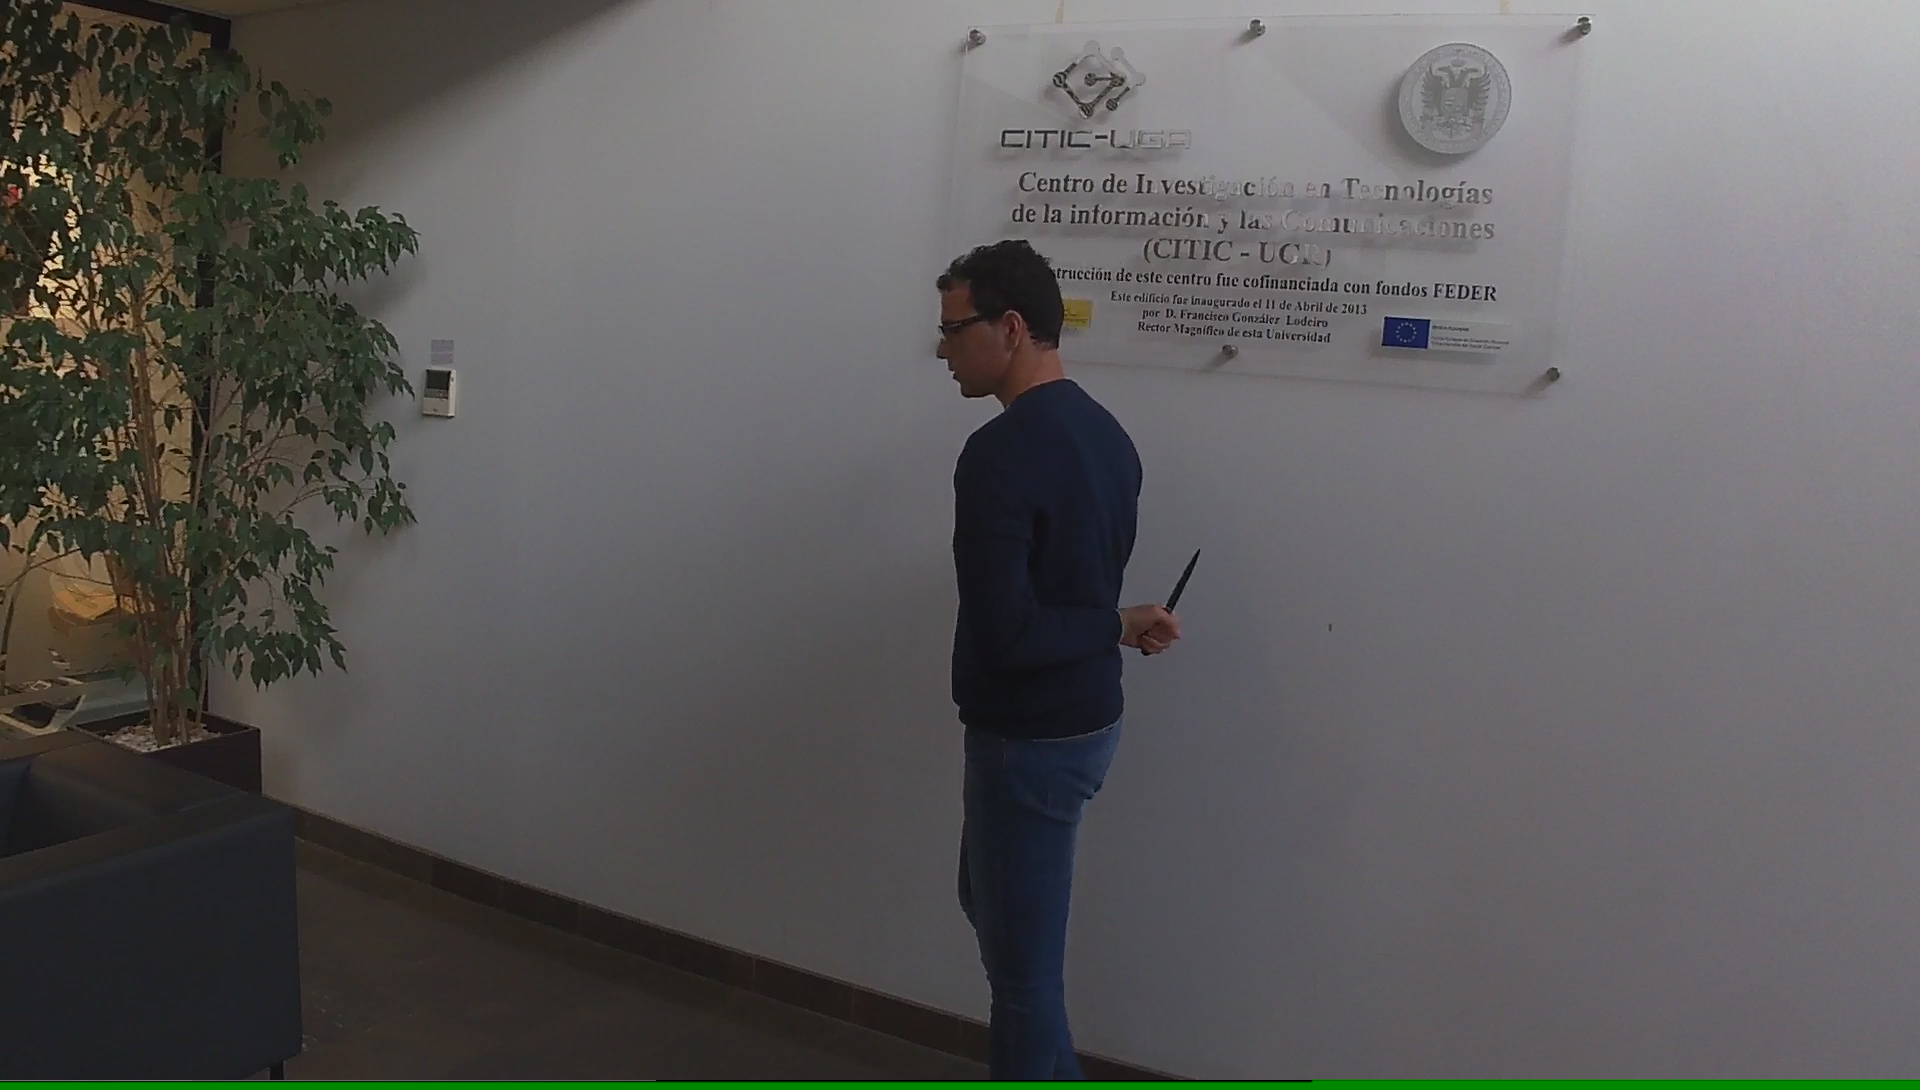knife: (1137, 538, 1209, 660)
